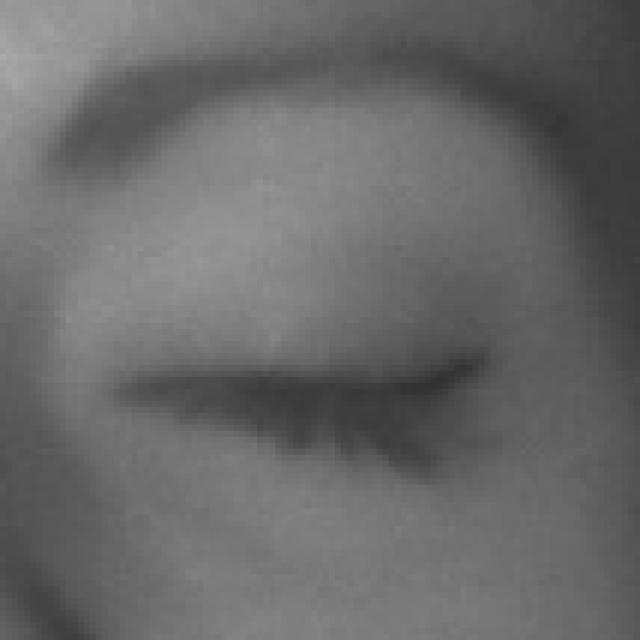close: (30, 7, 640, 588)
